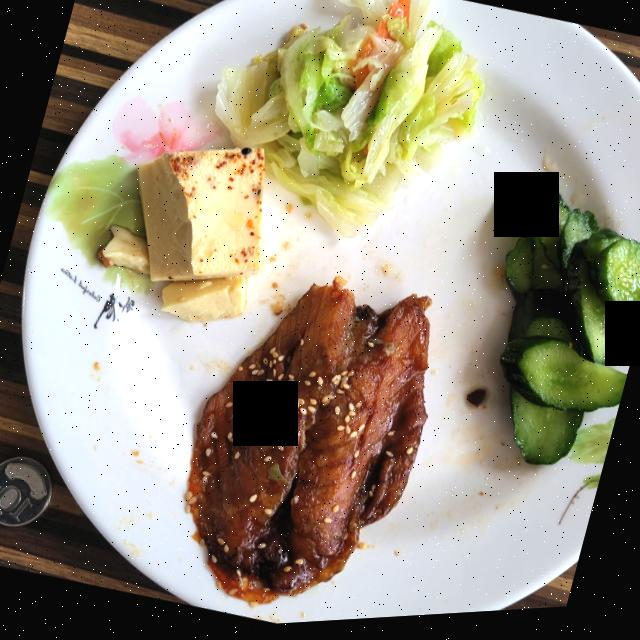Kabayaki sea bream fillet: (185, 283, 429, 606)
cabbage: (215, 0, 482, 240)
coin: (0, 456, 51, 526)
cucumber: (498, 197, 640, 471)
